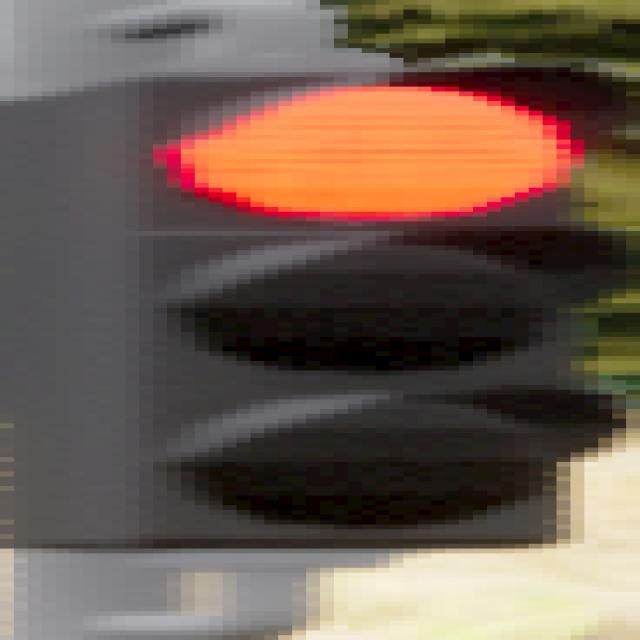red_light: (7, 59, 620, 563)
